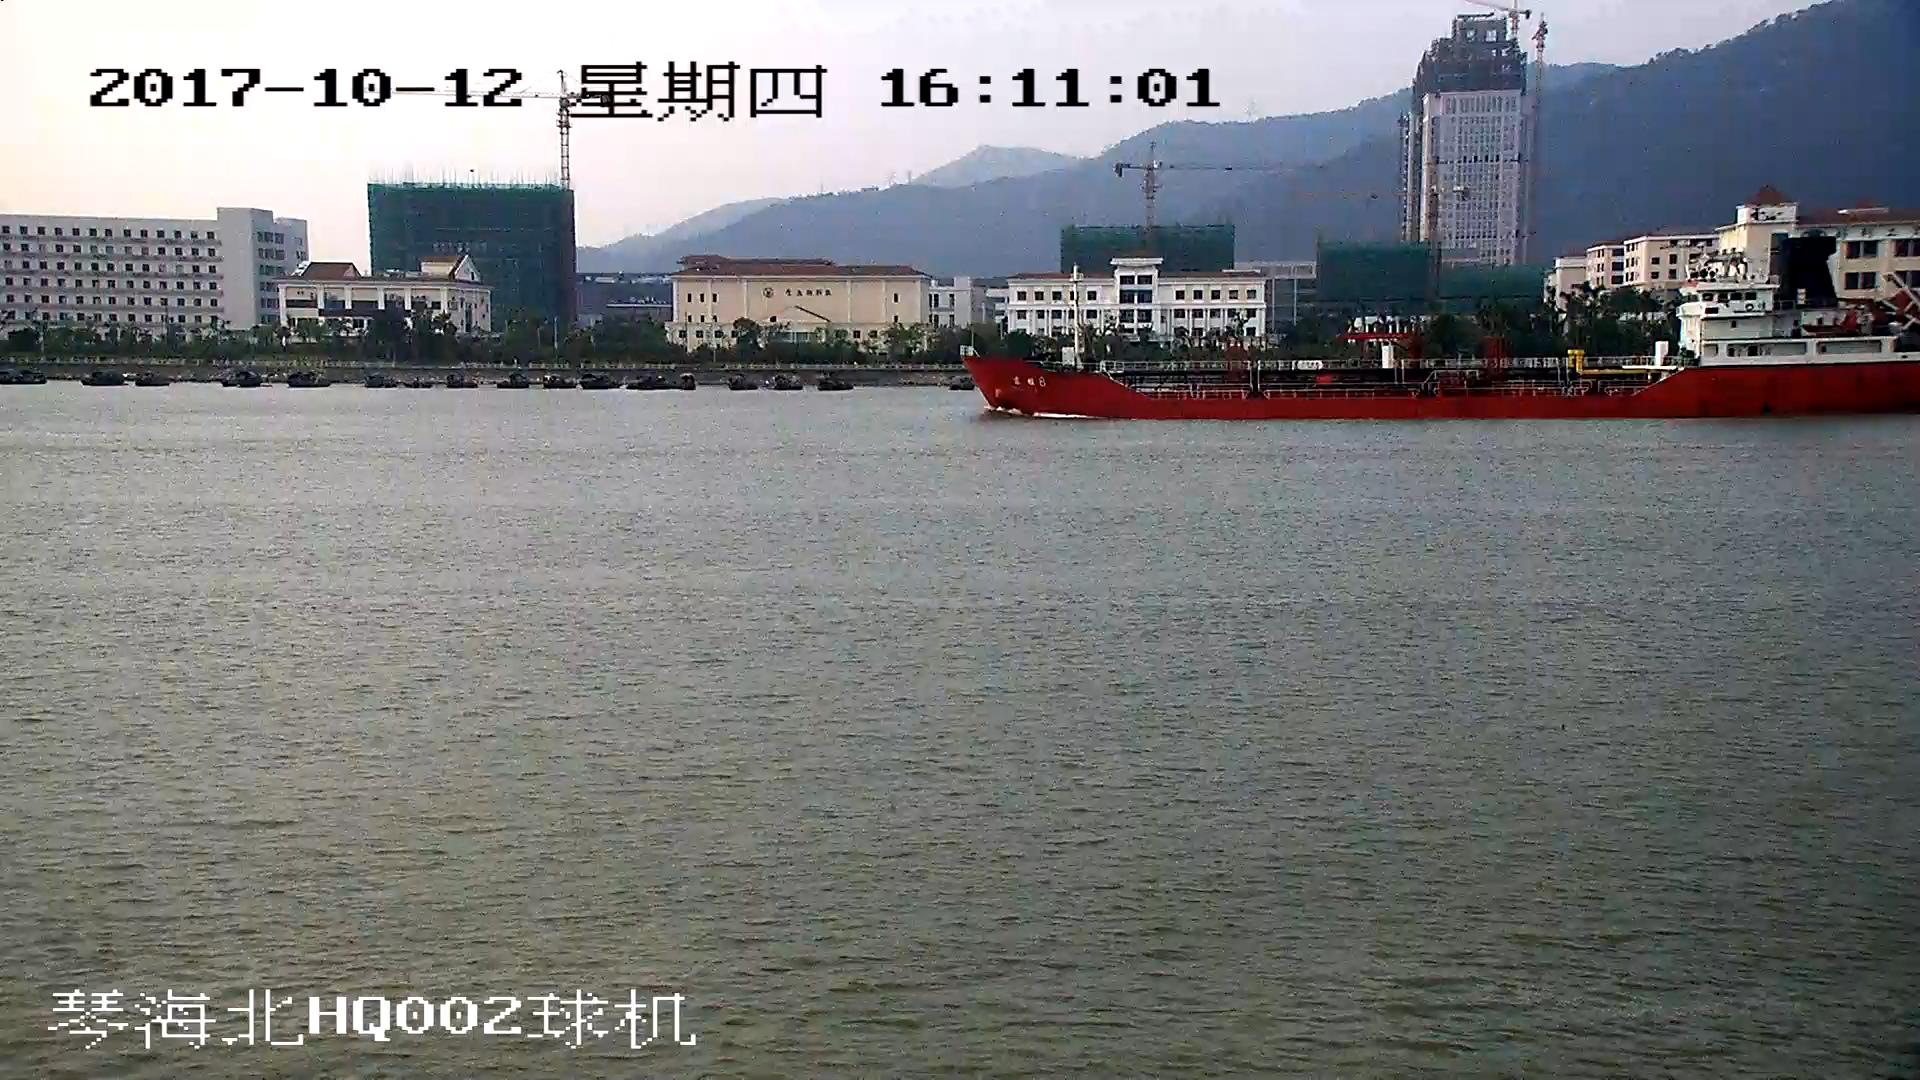general cargo ship: (958, 272, 1920, 426)
